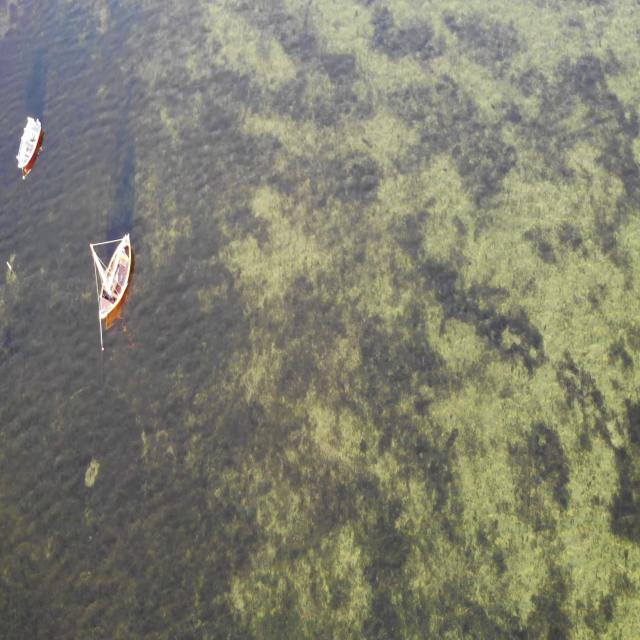boat: (15, 113, 42, 175)
sailboat: (90, 232, 134, 324)
